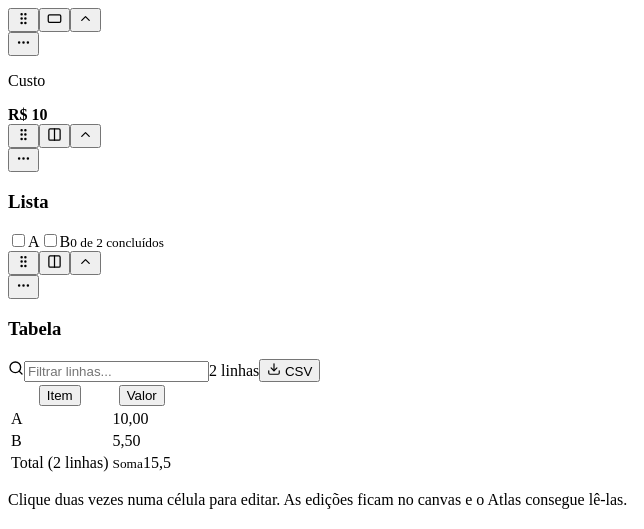
Scenario: edits a table cell in place, totals it and can restore the original
Later steps or results of the test are not shown.
Double-click the text "5,50" at (142, 441), box [112,431,172,451]
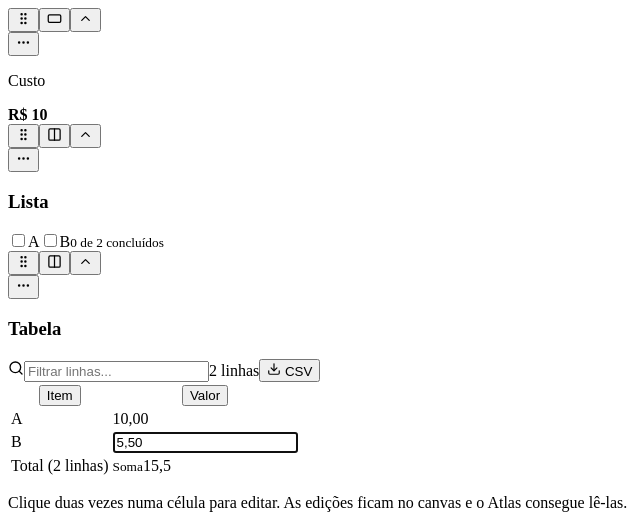
Replace the text in the field named "Editar Valor" with "7,50" at (205, 442), box [112,432,298,453]
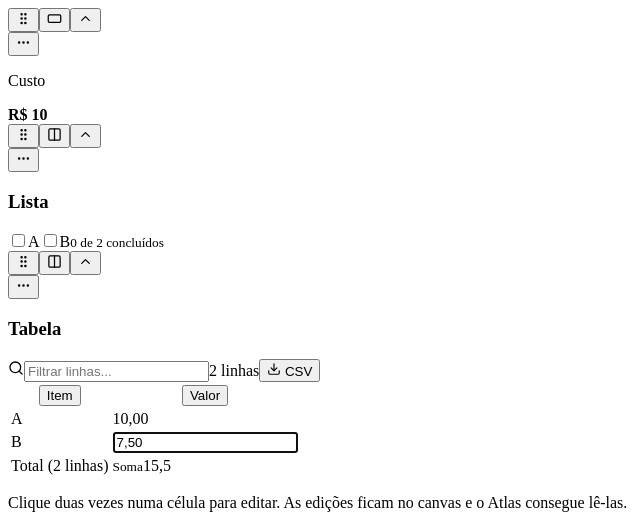
Press Enter in the field named "Editar Valor", box [112,432,298,453]
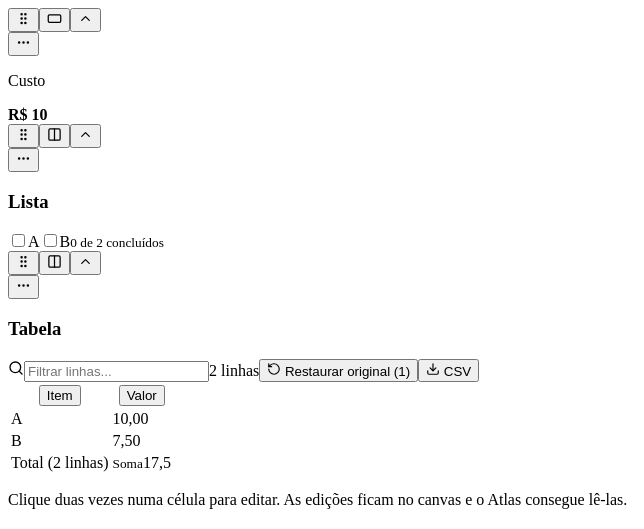
Now the text "7,50" has class "edited", box [112,431,172,451]
